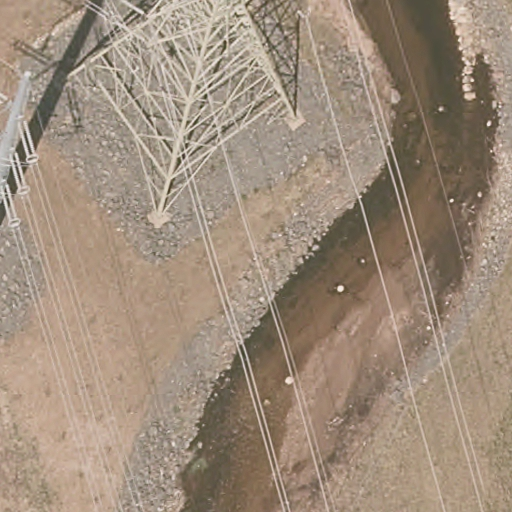TT: (63, 1, 307, 227)
